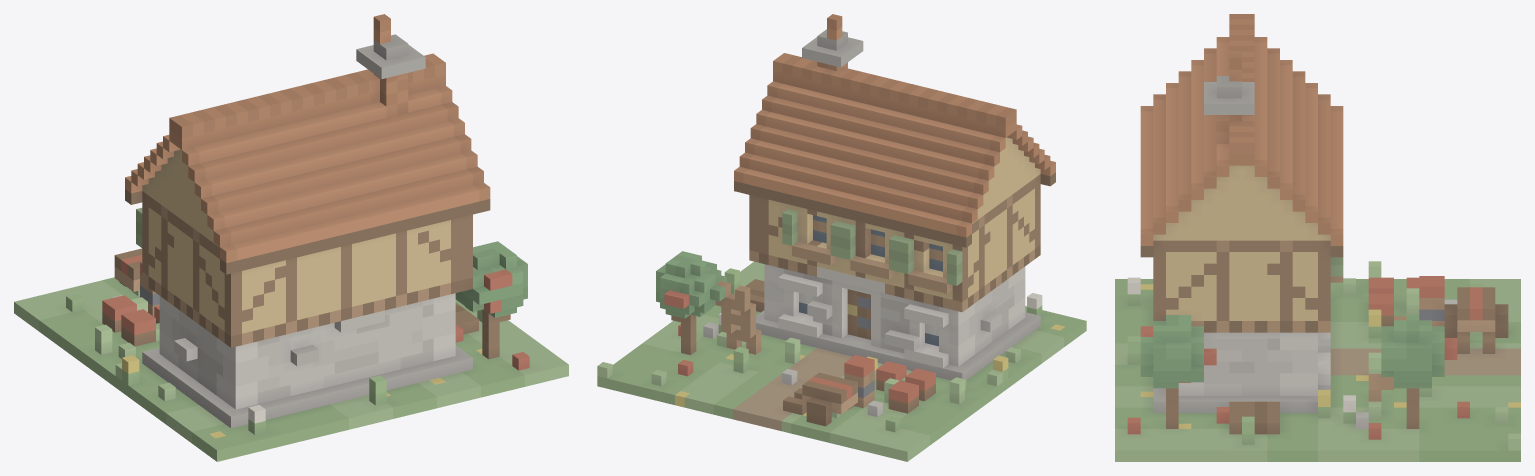
File: orchard.glb
The picture shows the model from 3 angles, left to right: view 1: azimuth 30°, elevation 25°; view 2: azimuth 150°, elevation 25°; view 3: azimuth 270°, elevation 25°; orthographic projection. The views are drawn at different scales.
Visible parts, largest first — view 1: orchard; view 2: orchard; view 3: orchard.
Boxes of the visible parts, x1=… form: orchard: x1=14, y1=14, x2=568, y2=461; orchard: x1=597, y1=14, x2=1086, y2=461; orchard: x1=1115, y1=14, x2=1520, y2=461.
Bounding box in the file's own units: 4 × 3.75 × 4.
